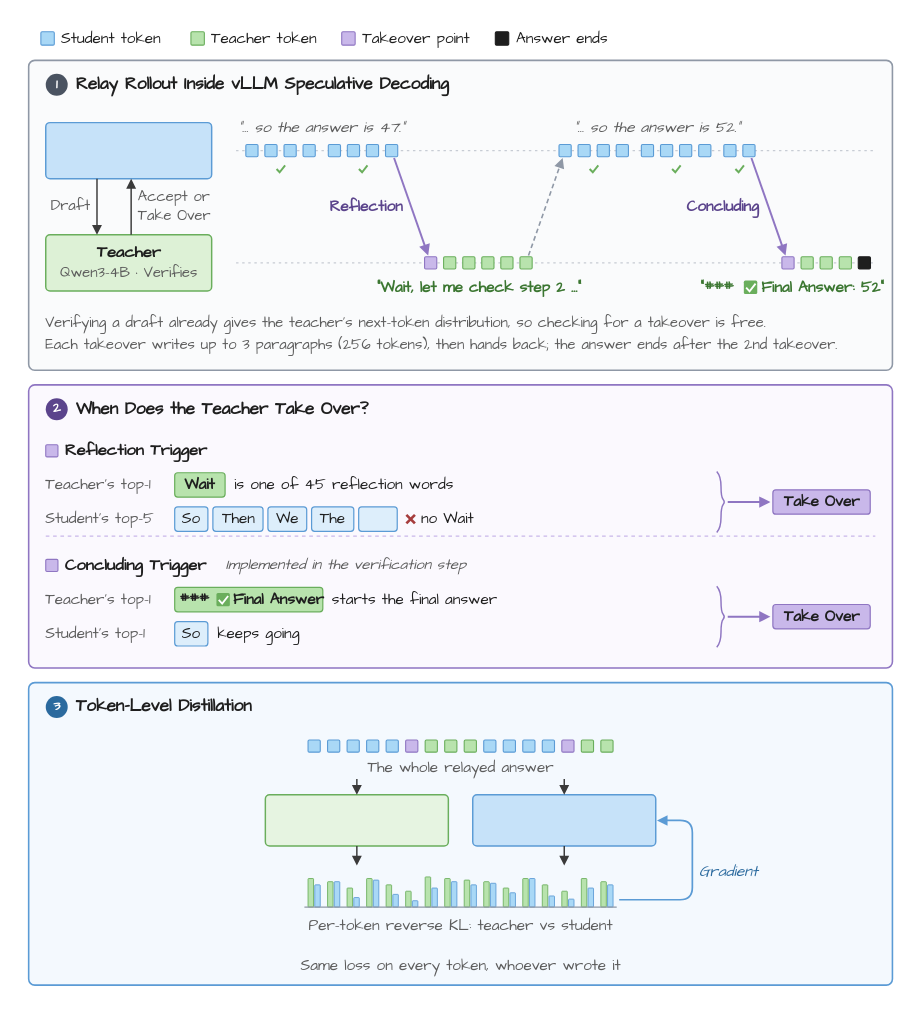
Some shapes in this 920 by 1013 pixel diagram are drawn without their labels. Here are the shapes that lost their labels. From the top down, the box of each, then its label:
(44, 121, 212, 179): Student Qwen3-1.7B · Drafts
(357, 506, 397, 531): Let
(264, 793, 448, 846): Teacher Scorer Separate GPU
(471, 793, 656, 846): Student Being trained
